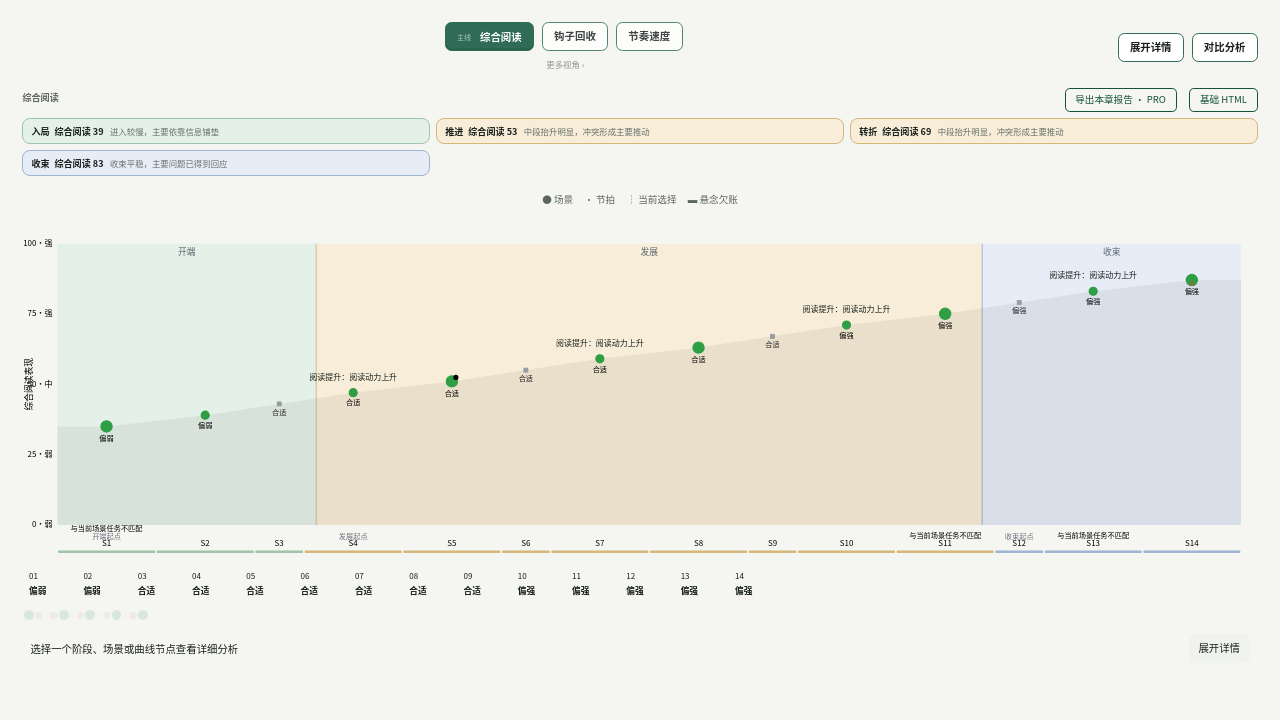
Scenario: Reader Journey 3A.2.1 polish › empty selection hints are Chinese without Phase/Scene jargon
Click the button with test id "journey-inspector-summary-expand" at point(1219, 649), box [1189, 634, 1250, 663]
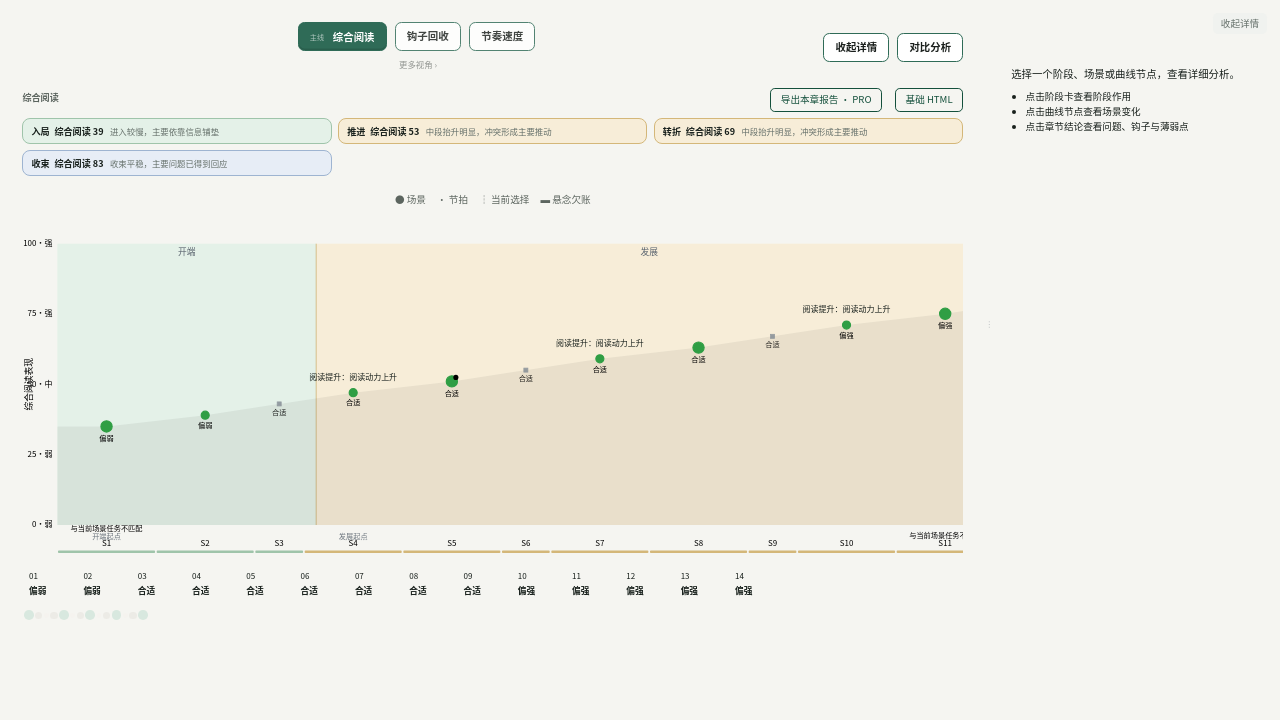
Expected: the element with test id "journey-detail-empty" shows "选择一个阶段、场景或曲线节点", [1011, 66, 1240, 81]
